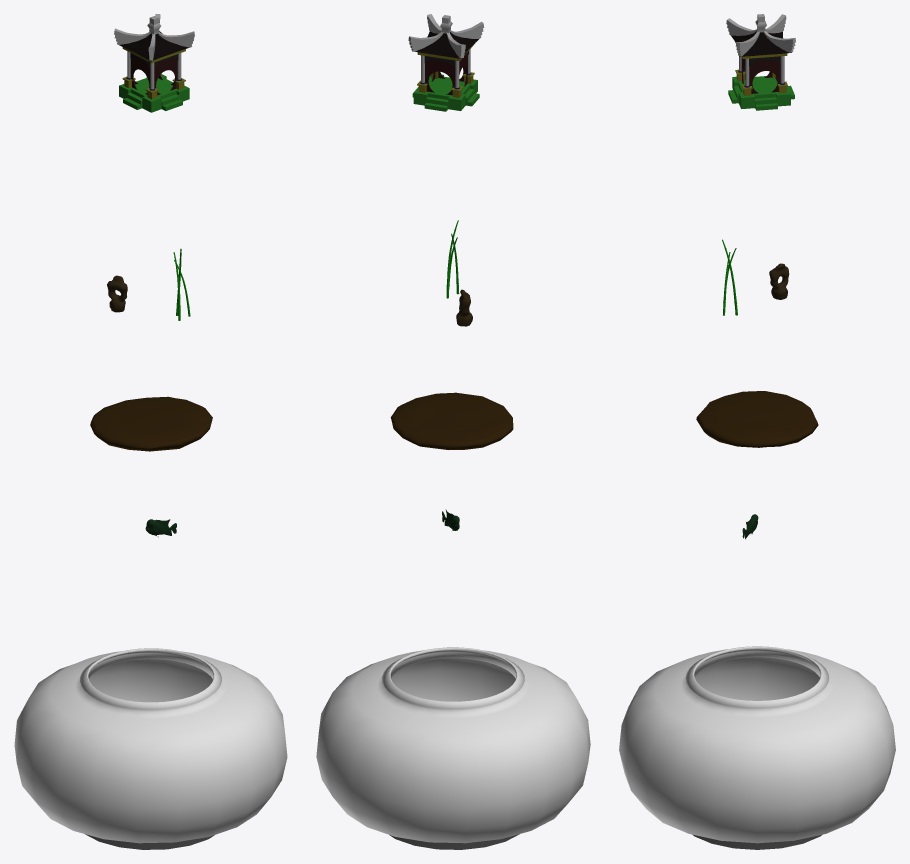
File: FishyTexturing.obj
3 renders of one model, left to right at view 1: azimuth 30°, elevation 25°; view 2: azimuth 150°, elevation 25°; view 3: azimuth 270°, elevation 25°, orthographic.
Visible parts, largest first — view 1: Bowl, group FishCastle:Landscape FishCastle:Foundation1, FishCastle:Temple group FishCastle:Stairs, FishCastle:Temple group FishCastle:pasted__pasted__pasted__pCube, FishCastle:Temple group FishCastle:Roof, FishCastle:Temple group FishCastle:polySurface1 FishCastle:Walls, group FishCastle:Landscape FishCastle:Rock1; view 2: Bowl, group FishCastle:Landscape FishCastle:Foundation1, FishCastle:Temple group FishCastle:Stairs, FishCastle:Temple group FishCastle:pasted__pasted__pasted__pCube, FishCastle:Temple group FishCastle:polySurface1 FishCastle:Walls, FishCastle:Temple group FishCastle:Roof; view 3: Bowl, group FishCastle:Landscape FishCastle:Foundation1, FishCastle:Temple group FishCastle:Stairs, FishCastle:Temple group FishCastle:pasted__pasted__pasted__pCube, FishCastle:Temple group FishCastle:Roof, FishCastle:Temple group FishCastle:polySurface1 FishCastle:Walls, group FishCastle:Landscape FishCastle:Rock1.
Boxes of the visible parts, box(x1,y1,x2,y2) form: Bowl: box(14, 648, 287, 849); group FishCastle:Landscape FishCastle:Foundation1: box(90, 396, 212, 451); FishCastle:Temple group FishCastle:Stairs: box(119, 74, 189, 112); FishCastle:Temple group FishCastle:pasted__pasted__pasted__pCube: box(114, 14, 194, 60); FishCastle:Temple group FishCastle:Roof: box(119, 31, 190, 61); FishCastle:Temple group FishCastle:polySurface1 FishCastle:Walls: box(130, 56, 177, 95); group FishCastle:Landscape FishCastle:Rock1: box(107, 275, 127, 312); Bowl: box(316, 647, 590, 849); group FishCastle:Landscape FishCastle:Foundation1: box(390, 392, 513, 449); FishCastle:Temple group FishCastle:Stairs: box(412, 74, 479, 111); FishCastle:Temple group FishCastle:pasted__pasted__pasted__pCube: box(408, 14, 484, 58); FishCastle:Temple group FishCastle:polySurface1 FishCastle:Walls: box(425, 53, 467, 95); FishCastle:Temple group FishCastle:Roof: box(412, 31, 478, 58); Bowl: box(619, 646, 895, 849); group FishCastle:Landscape FishCastle:Foundation1: box(696, 391, 818, 447); FishCastle:Temple group FishCastle:Stairs: box(728, 76, 794, 110); FishCastle:Temple group FishCastle:pasted__pasted__pasted__pCube: box(726, 14, 795, 56); FishCastle:Temple group FishCastle:Roof: box(731, 30, 791, 56); FishCastle:Temple group FishCastle:polySurface1 FishCastle:Walls: box(741, 57, 780, 93); group FishCastle:Landscape FishCastle:Rock1: box(769, 263, 789, 299).
Bounding box in the file's own units: 33.68 × 108 × 33.68.
